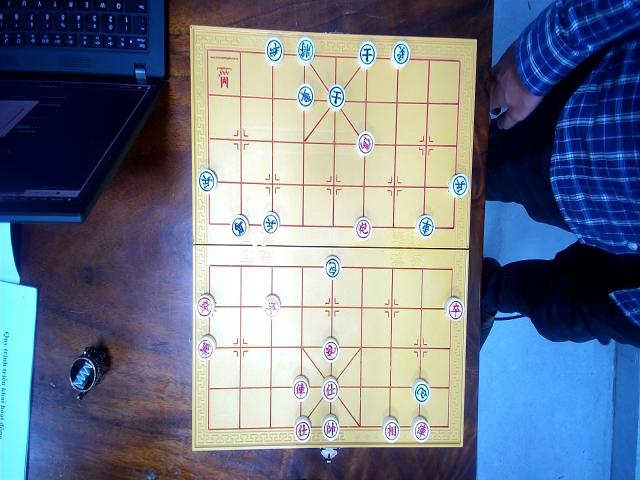piece: (448, 172, 469, 199), (295, 37, 315, 65), (390, 41, 410, 69), (264, 37, 284, 65), (295, 82, 315, 110), (411, 378, 431, 405), (358, 40, 377, 68), (195, 293, 215, 319), (196, 335, 216, 361), (381, 416, 400, 443), (411, 416, 430, 443), (294, 416, 312, 444), (322, 337, 340, 365), (197, 168, 217, 193), (444, 296, 464, 321), (415, 214, 435, 239), (322, 414, 340, 441), (327, 83, 345, 110), (353, 216, 372, 241), (292, 375, 310, 401), (356, 130, 374, 156), (321, 377, 339, 401), (324, 256, 342, 280), (230, 214, 248, 238), (262, 212, 280, 235), (264, 294, 280, 318)
